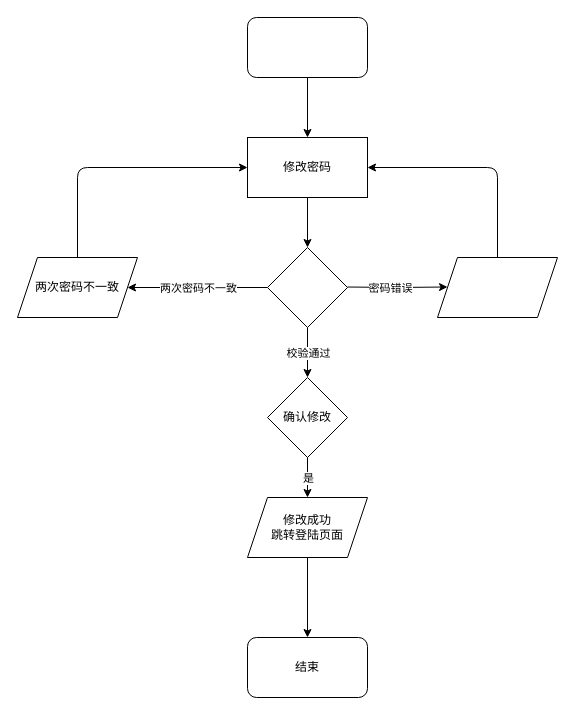
The diagram is 575 pixels wide and 715 high, and some of its shapes have lost their labels. The shapes that lost their labels are listed below. From the top down, each one's box as (x1, y1, x2, y2) in pixels, then its label:
(246, 16, 368, 78): 开始
(266, 246, 348, 328): 校验
(436, 256, 558, 318): 密码错误 请重新输入
